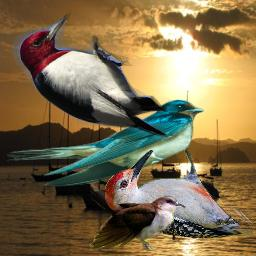Cuckoo: (90, 159, 186, 253)
Swallow: (7, 99, 204, 188)
Woodpecker: (11, 12, 178, 138), (105, 150, 253, 239)
